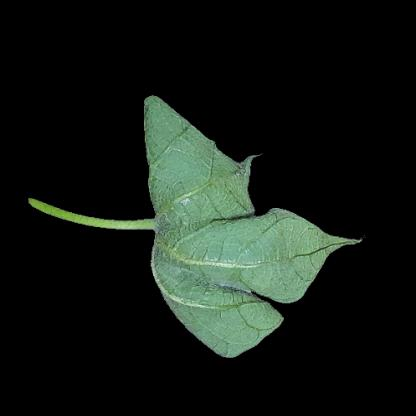curl_stage2: (158, 138, 221, 252), (231, 225, 308, 289), (172, 290, 275, 333)
